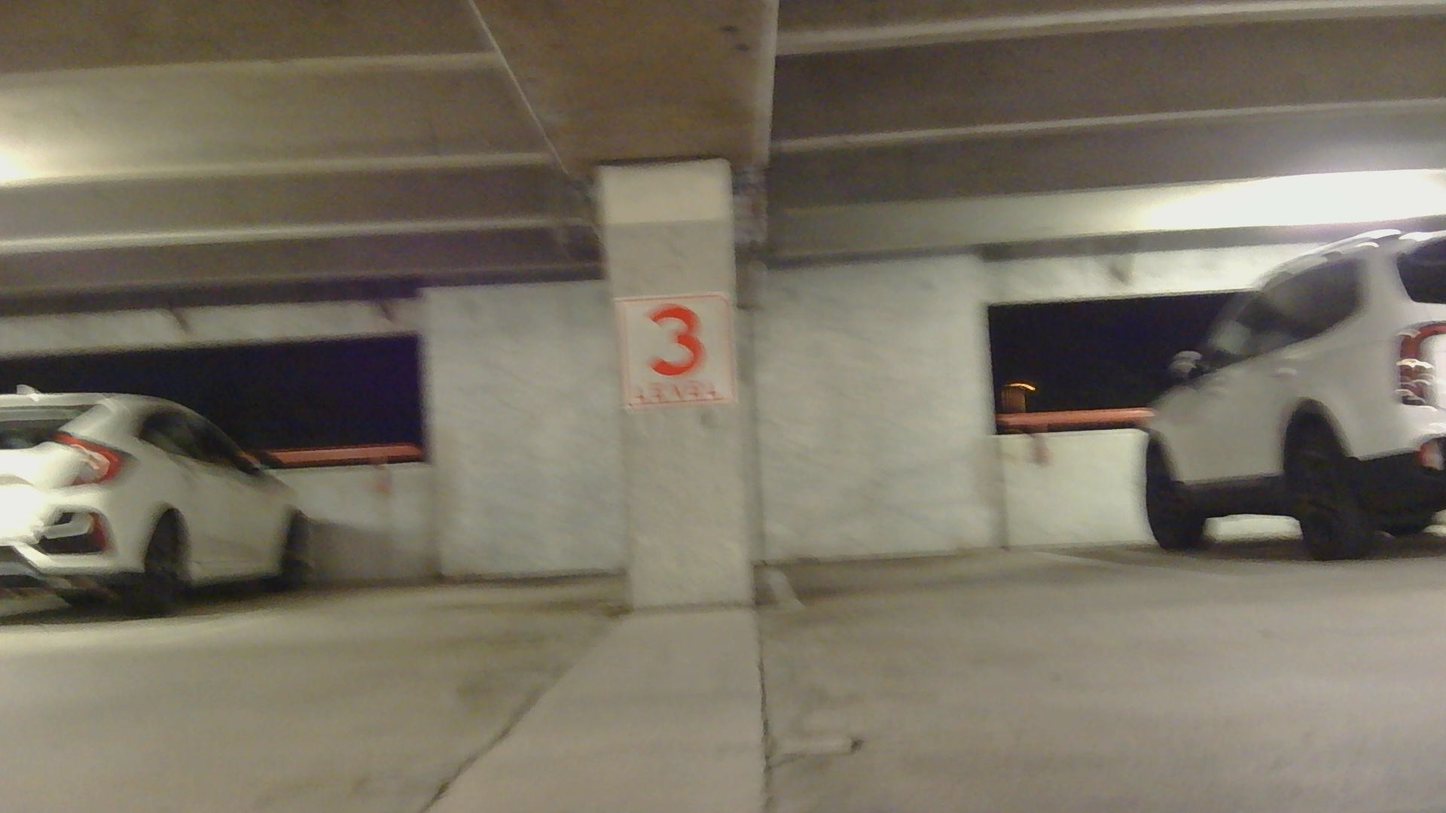empty_spot: (172, 495, 622, 642), (778, 473, 1235, 613)
occupied_spot: (1149, 228, 1443, 565), (5, 392, 319, 620)
